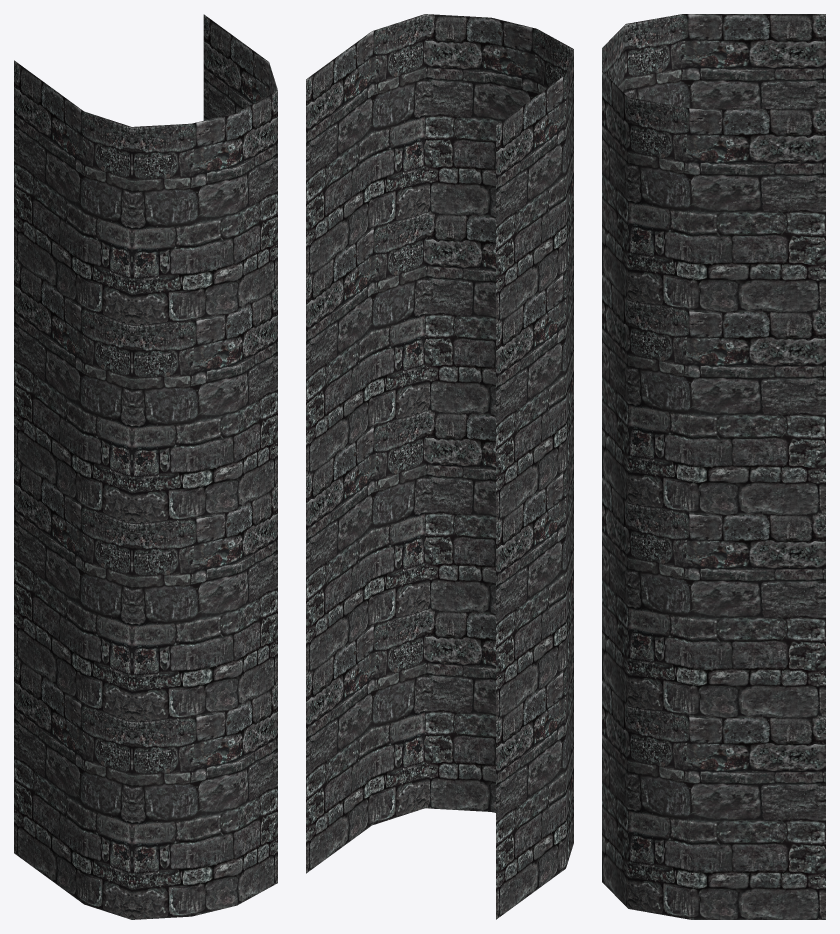
Rendered from wallBlockOR.fbx.
The picture shows the model from 3 angles, left to right: view 1: azimuth 30°, elevation 25°; view 2: azimuth 150°, elevation 25°; view 3: azimuth 270°, elevation 25°; orthographic projection. The views are drawn at different scales.
Parts seen in each view (by area): view 1: polySurface24; view 2: polySurface24; view 3: polySurface24.
Part boxes in pixels (bbox=[...]): polySurface24: bbox=[14, 14, 277, 919]; polySurface24: bbox=[306, 14, 573, 919]; polySurface24: bbox=[602, 14, 825, 919].
Bounding box in the file's own units: 2 × 8 × 2.
